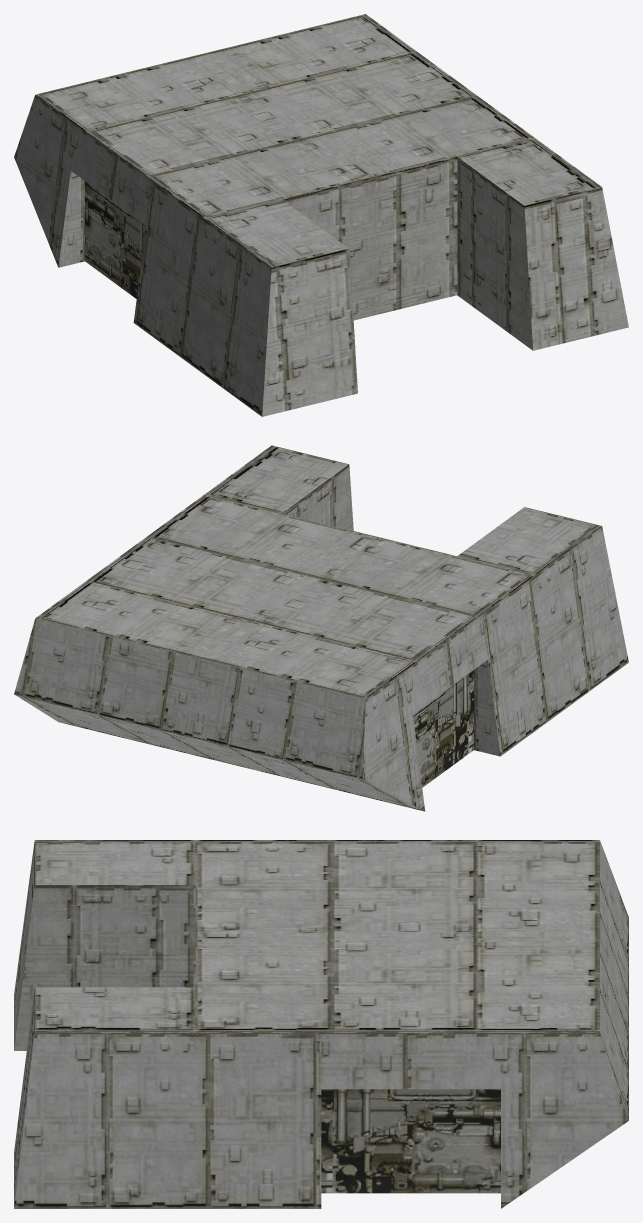
File: ins_all_def_turret_m_s01_turret_l1.fbx
3 renders of one model, top to bottom at view 1: azimuth 30°, elevation 25°; view 2: azimuth 150°, elevation 25°; view 3: azimuth 270°, elevation 25°, orthographic. The views are drawn at different scales.
Parts seen in each view (by area): view 1: mesh_node; view 2: mesh_node; view 3: mesh_node.
Boxes of the visible parts, x1=… form: mesh_node: x1=14, y1=14, x2=628, y2=416; mesh_node: x1=14, y1=445, x2=628, y2=811; mesh_node: x1=14, y1=840, x2=628, y2=1208.
Bounding box in the file's own units: 2.02 × 0.7278 × 2.45.
